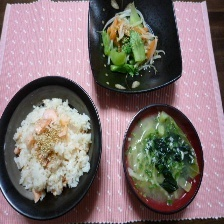rice: (12, 99, 93, 206)
